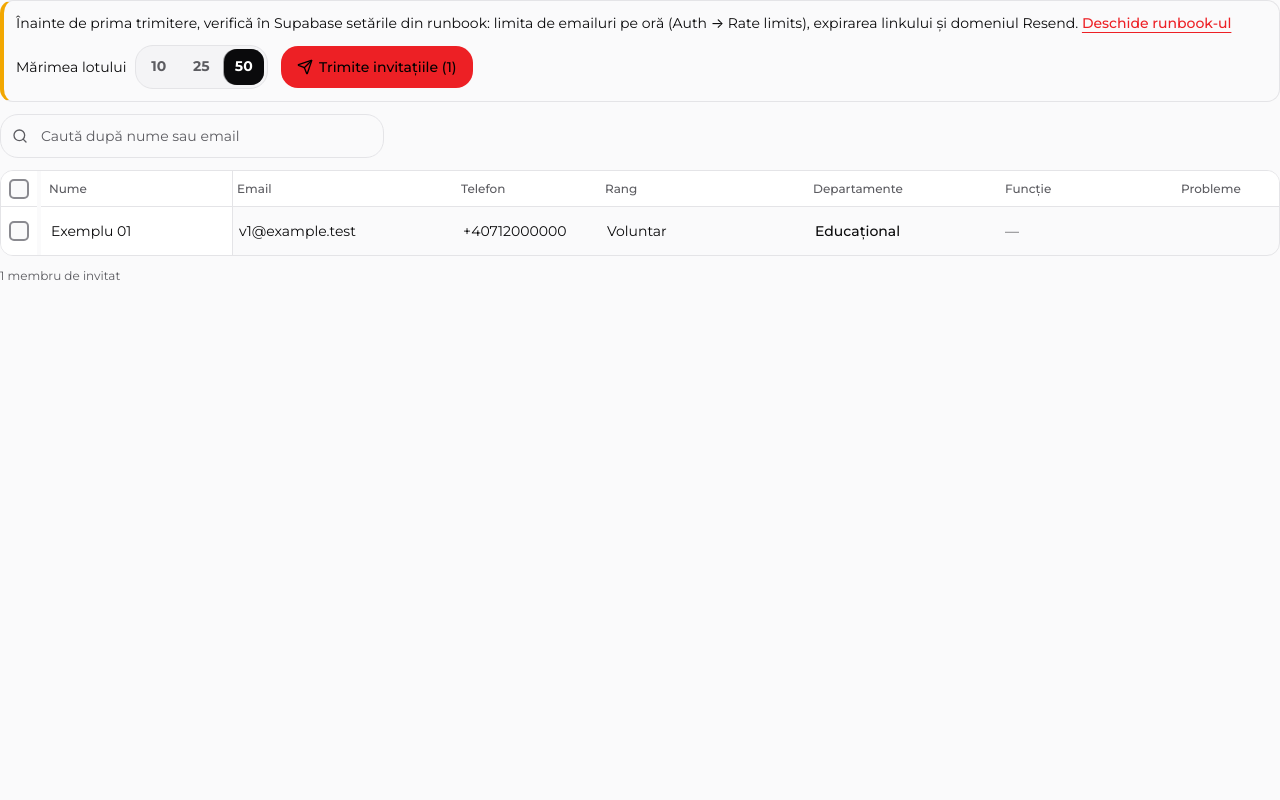
inline edits › changes Departments through the Group commands
Click the button with aria-label "Editează departamentele pentru Exemplu 01" at [901, 231], box [809,211,993,251]
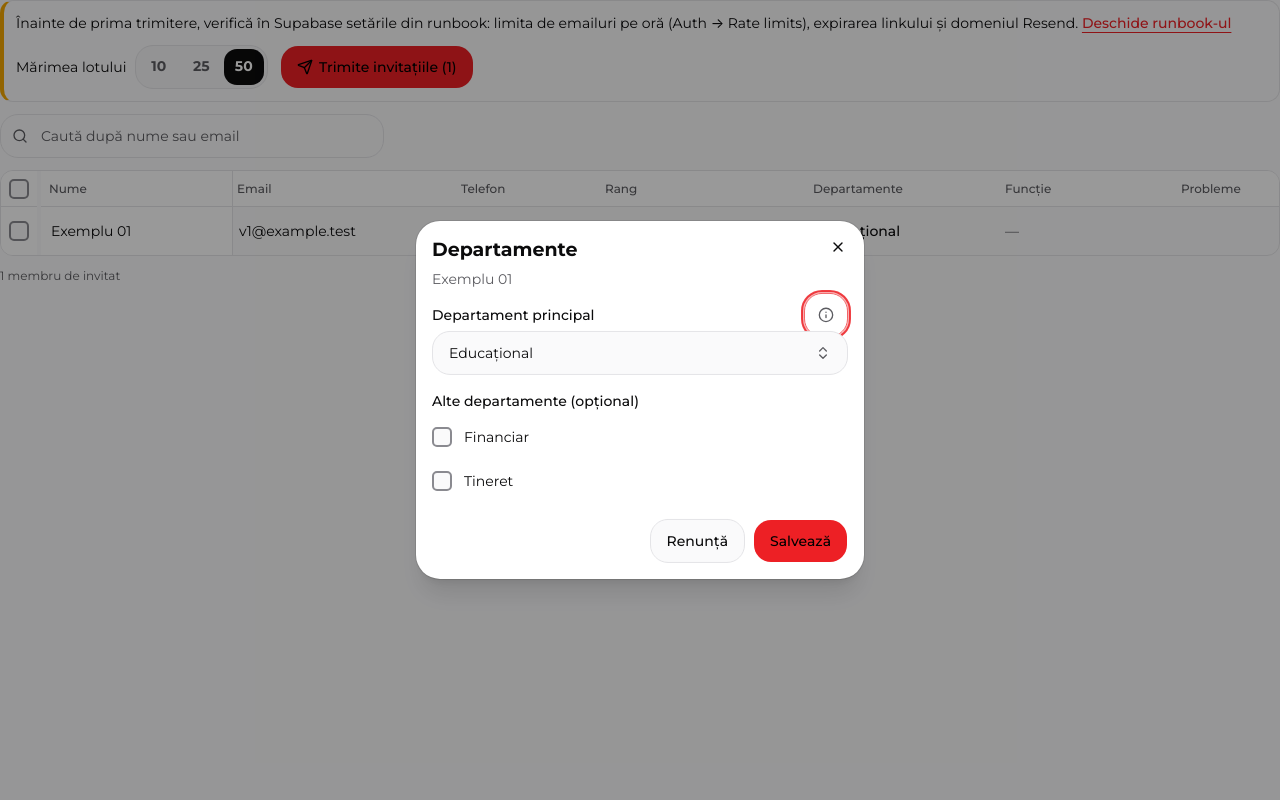
Result: the element "Salvează" is shown at [650,519,848,563]
Click the checkbox named "Tineret" next to "Tineret" at [442, 481], box [432,471,452,491]
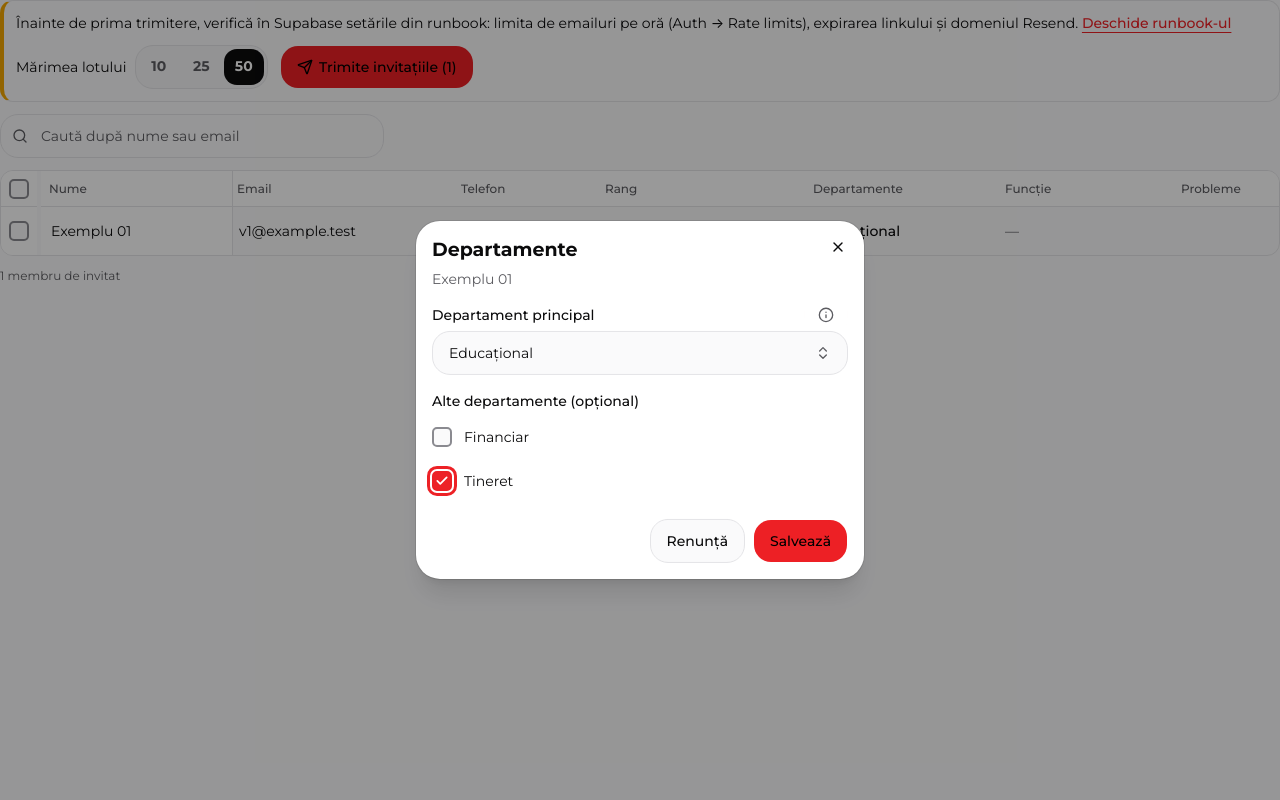
Click the button "Salvează" at [800, 541], box [753,519,848,563]
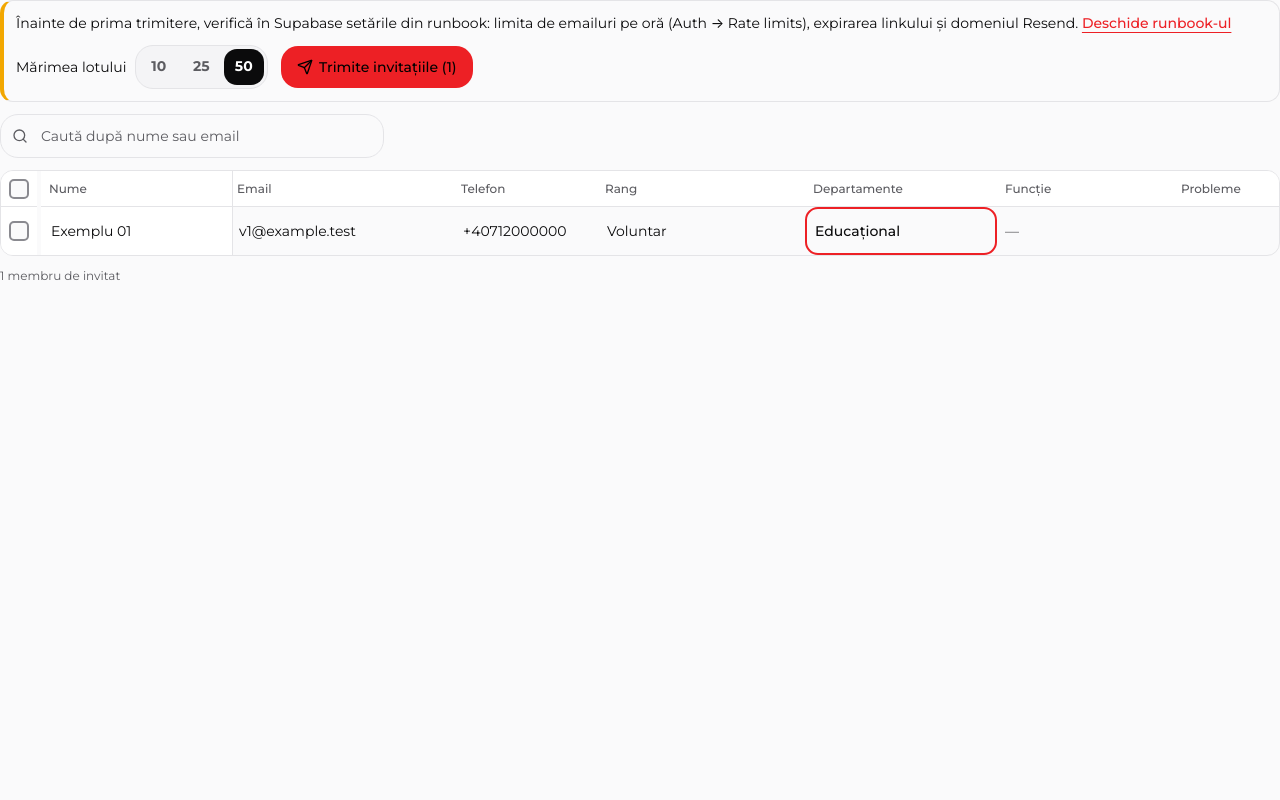
Result: the dialog is gone
